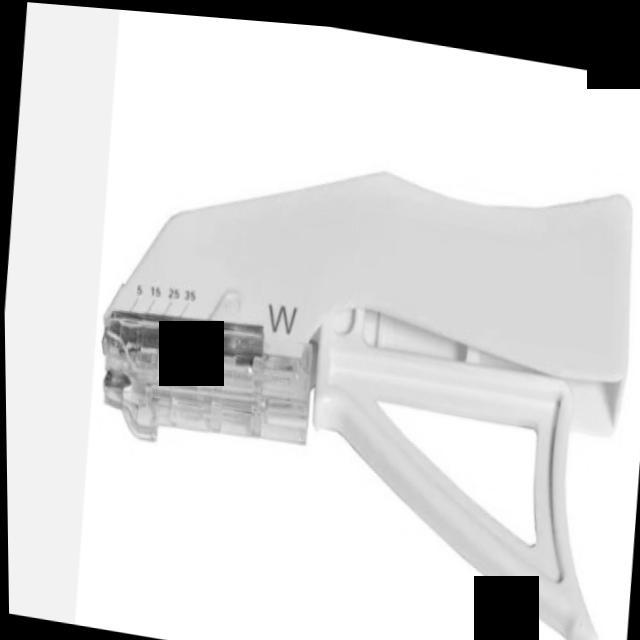Senn Retractor: (73, 97, 640, 640)
